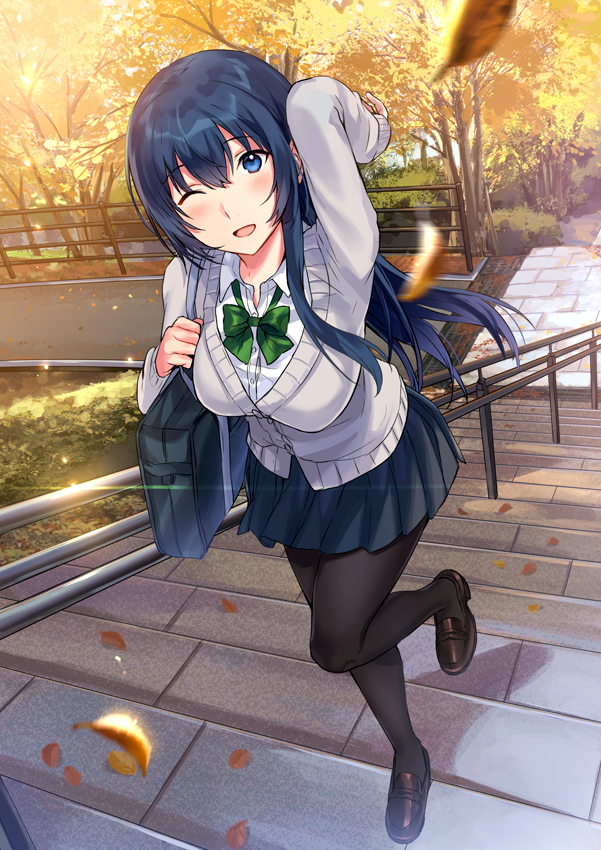纸片人正脸: (123, 49, 306, 268)
